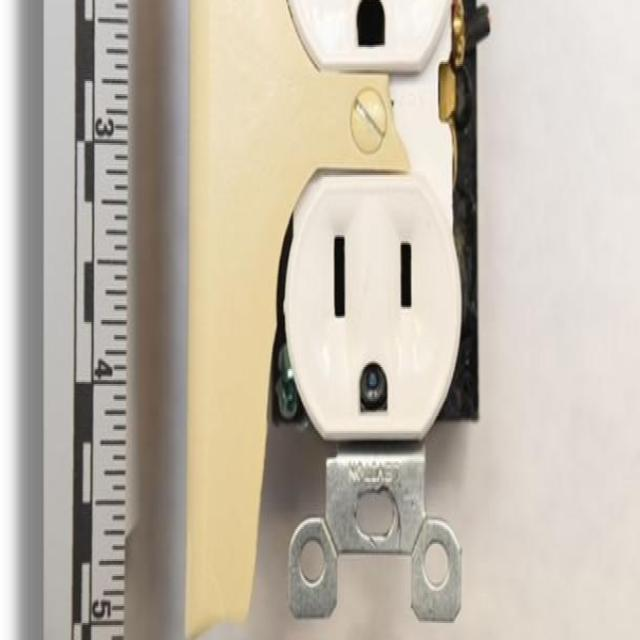hidden camera: (359, 360, 388, 409)
